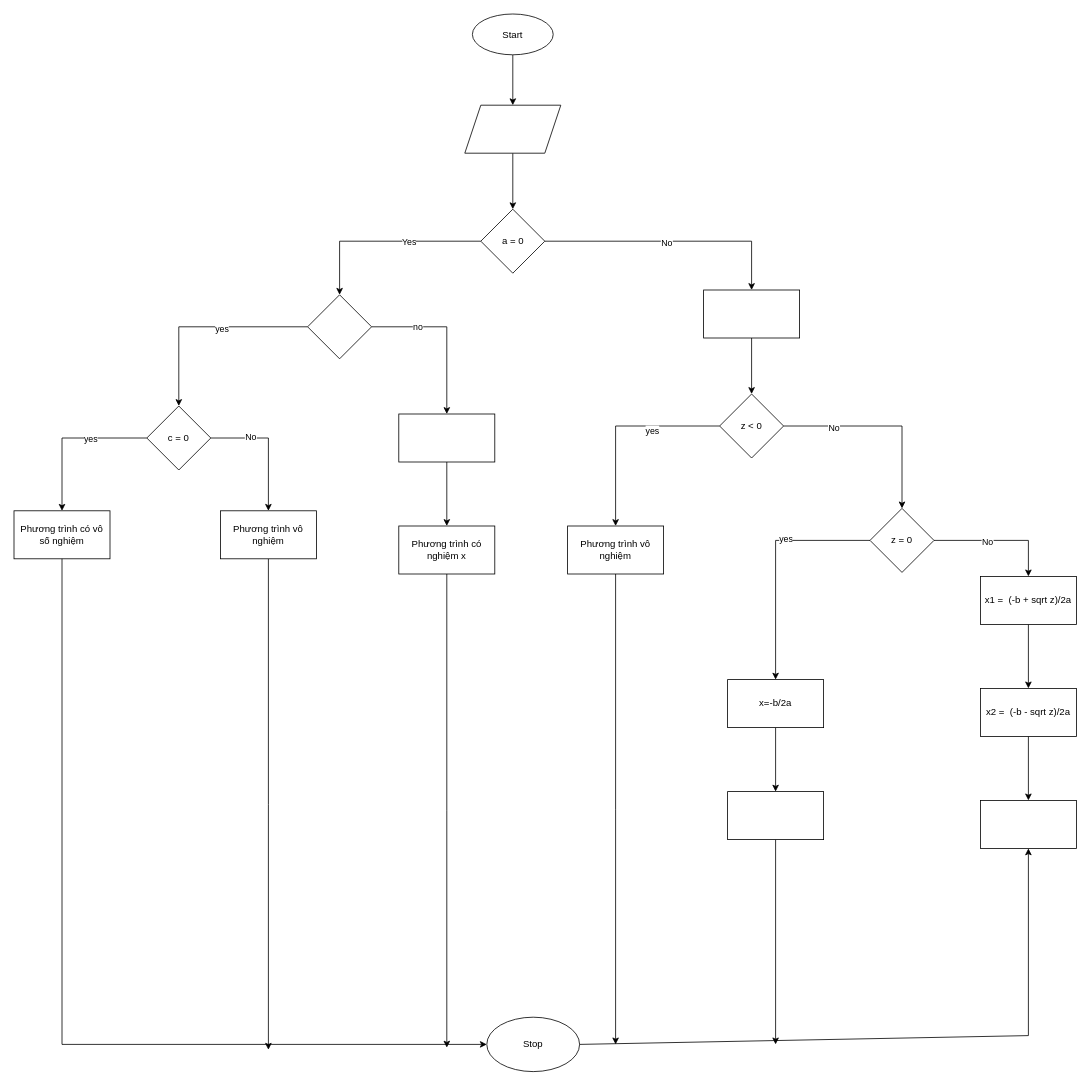
Image size: 1090x1086. Some labels were removed from this diagram. Here are the shapes that lost their labels. From the top down, the centre of each, then its label:
(512,128): Nhập a, b, c
(339,326): b = 0
(751,313): z = (b*b) - 4*a*c
(446,437): x = -c/b
(775,815): Phương trình có nghiệm kép x
(1028,824): Phương trình có nghiệm x2
